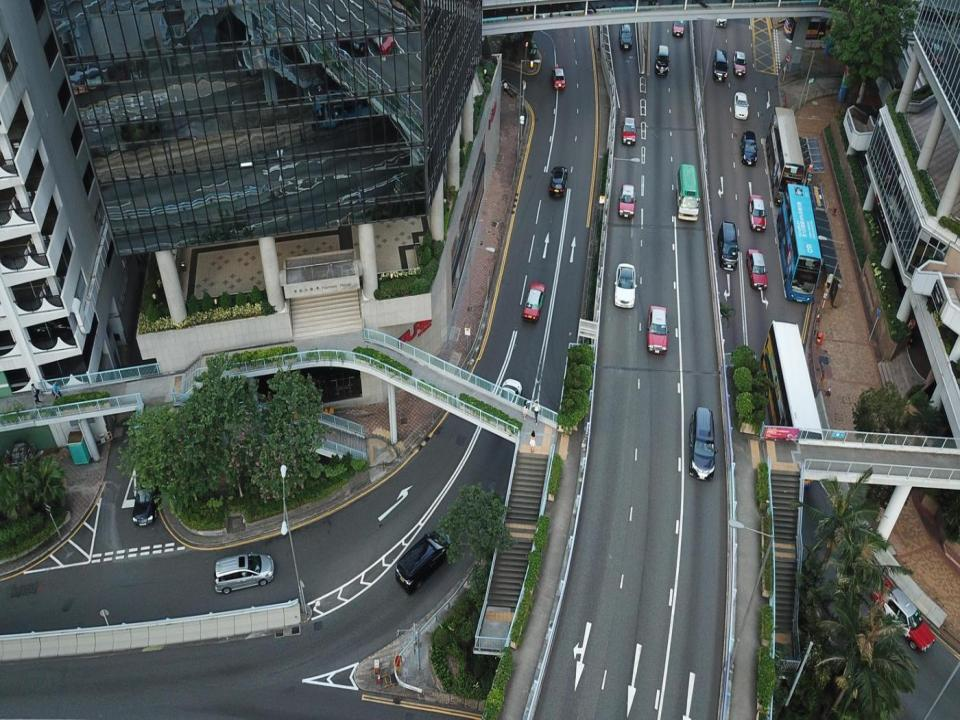bus: (760, 321, 825, 462), (776, 182, 823, 301), (767, 106, 807, 206), (784, 12, 847, 39), (677, 164, 700, 220)
car: (872, 578, 936, 652), (132, 462, 158, 526), (494, 378, 522, 426), (647, 305, 669, 355), (614, 263, 636, 308), (747, 248, 768, 292), (523, 281, 545, 321), (748, 195, 766, 232), (618, 184, 636, 218), (550, 166, 568, 197), (734, 92, 749, 121), (622, 117, 637, 145), (733, 50, 747, 76), (619, 24, 632, 49), (552, 66, 565, 90), (672, 15, 685, 36), (715, 6, 726, 28)
van: (396, 532, 448, 596), (215, 551, 274, 594), (688, 406, 718, 480), (717, 220, 739, 271), (739, 131, 758, 167), (712, 48, 728, 82), (655, 45, 670, 77)
